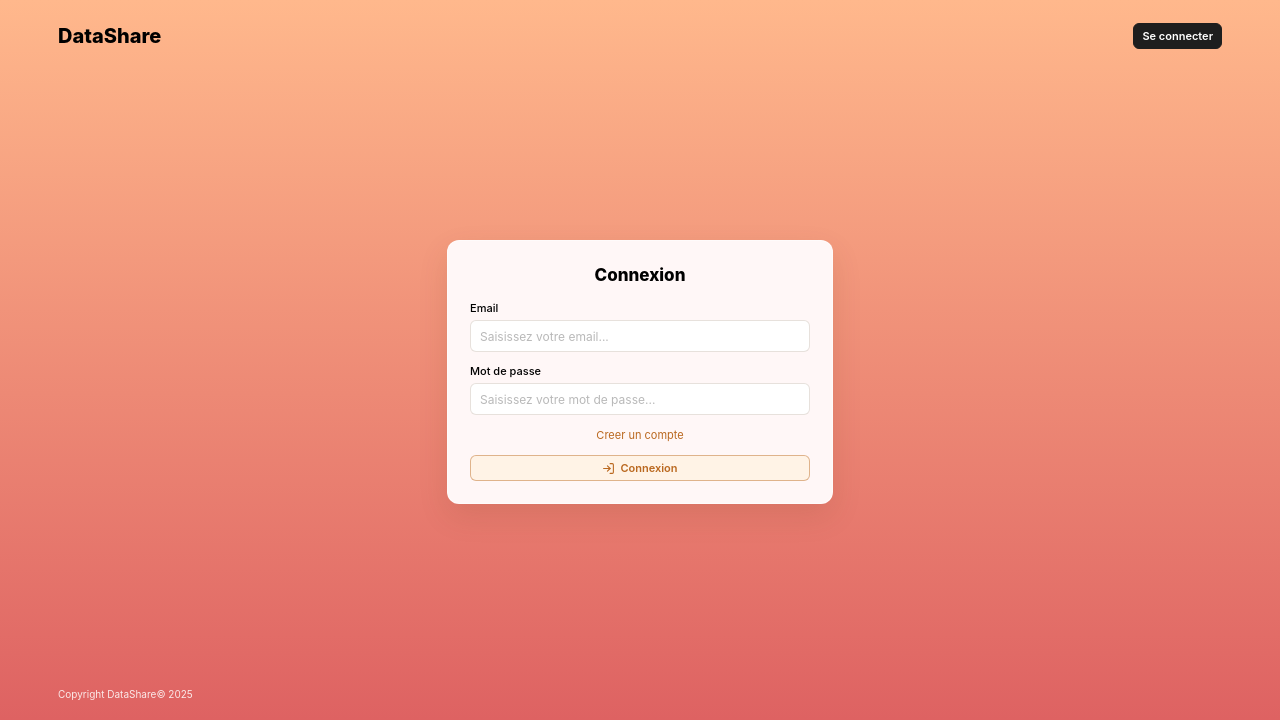
it: authentication flows › logs in and opens Mon espace history
The width and height of the screenshot is (1280, 720).
In the field named "email": x=640, y=336 [470,320,810,352], type "user@example.com"
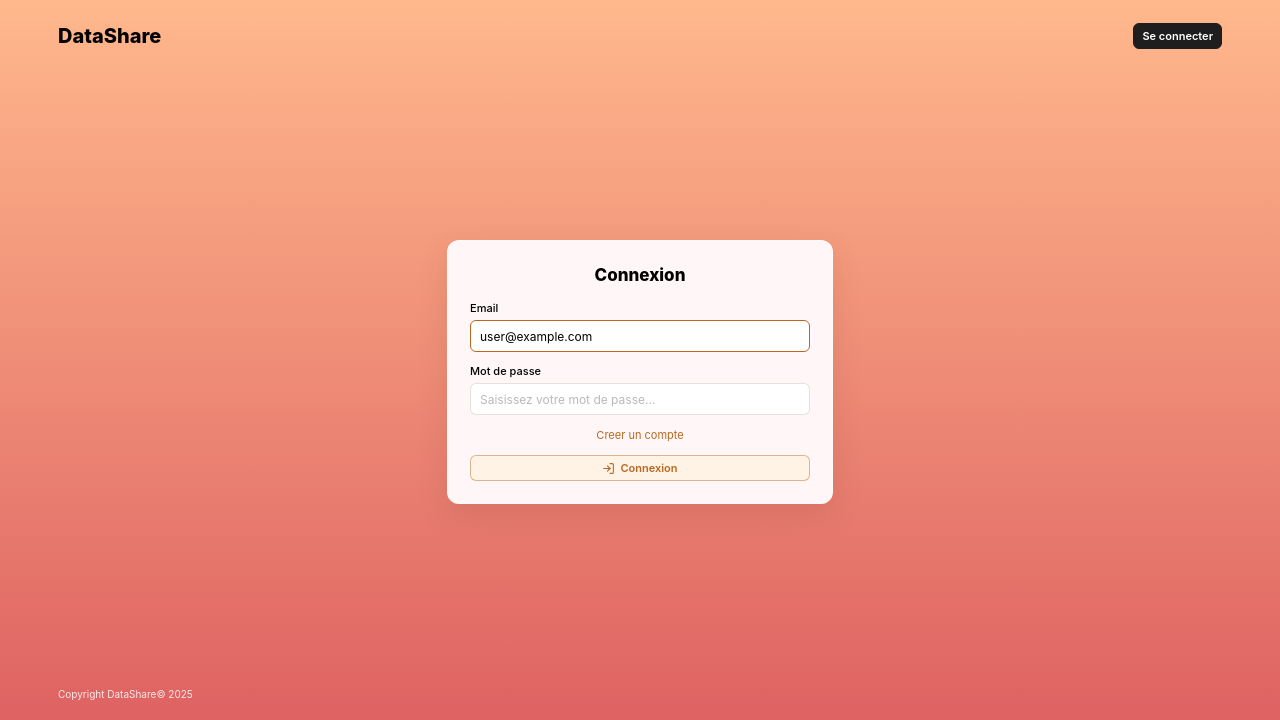
In the password field named "password": x=640, y=399 [470,383,810,415], type "Password123"
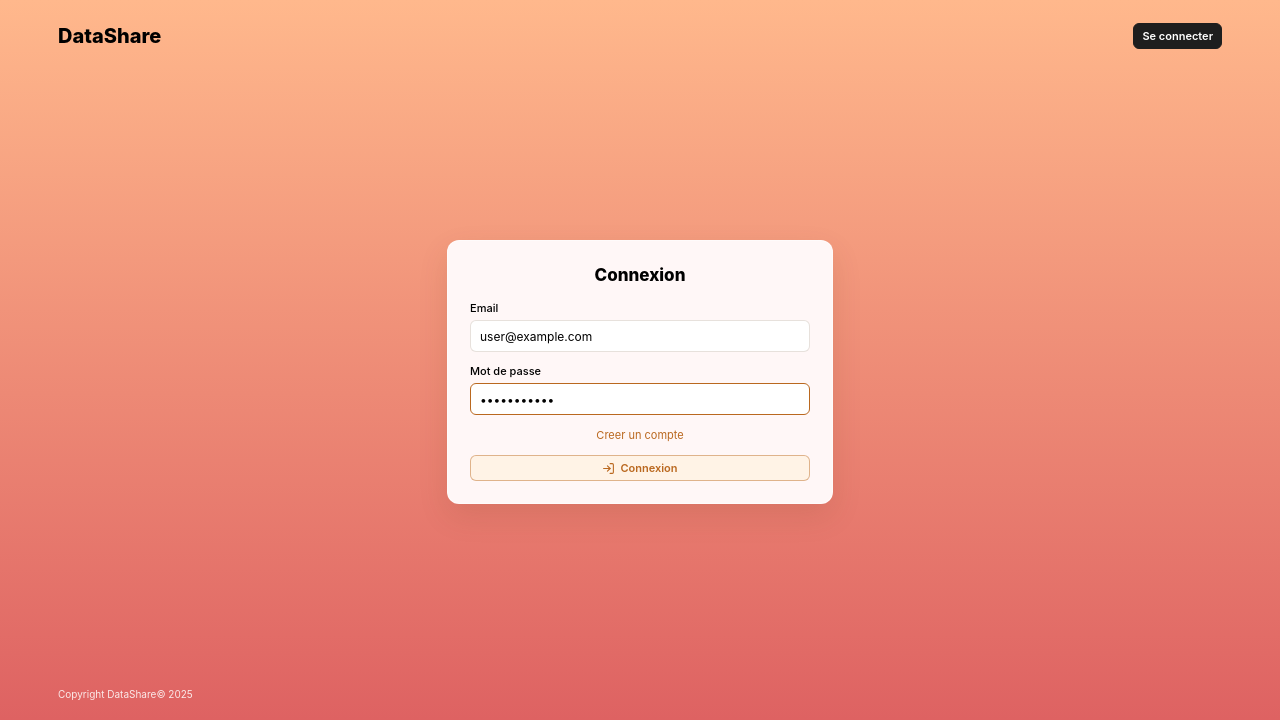
Click the button "Connexion": x=640, y=468 [470,455,810,481]
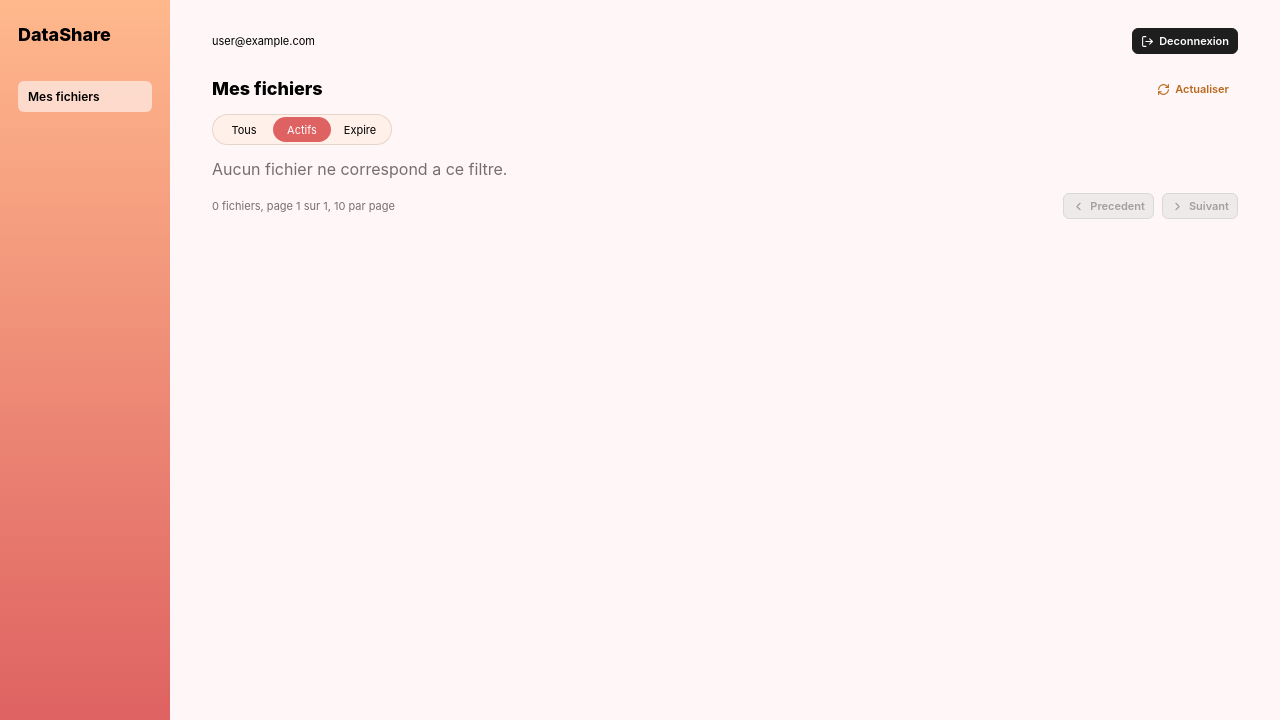
Result: the link "Mes fichiers" is shown at [18,81,152,112]
Result: the text "Aucun fichier ne correspond a ce filtre." is shown at [212,159,507,179]
